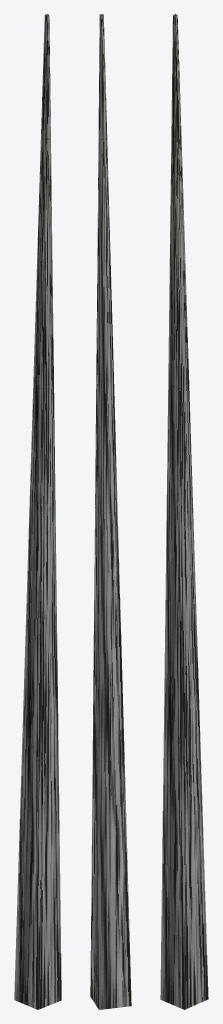
Rendered from dwarf_pine_bark_l2.gltf.
3 renders of one model, left to right at view 1: azimuth 90°, elevation 25°; view 2: azimuth 150°, elevation 25°; view 3: azimuth 270°, elevation 25°, orthographic.
Visible parts, largest first — view 1: dwarf_pine_bark_l2; view 2: dwarf_pine_bark_l2; view 3: dwarf_pine_bark_l2.
Boxes of the visible parts, box(x1,y1,x2,y2) form: dwarf_pine_bark_l2: box(14, 14, 61, 1009); dwarf_pine_bark_l2: box(90, 14, 131, 1009); dwarf_pine_bark_l2: box(160, 14, 208, 1009).
Bounding box in the file's own units: 0.176 × 4 × 0.176.
Materials: 1 (1 with a texture image).
